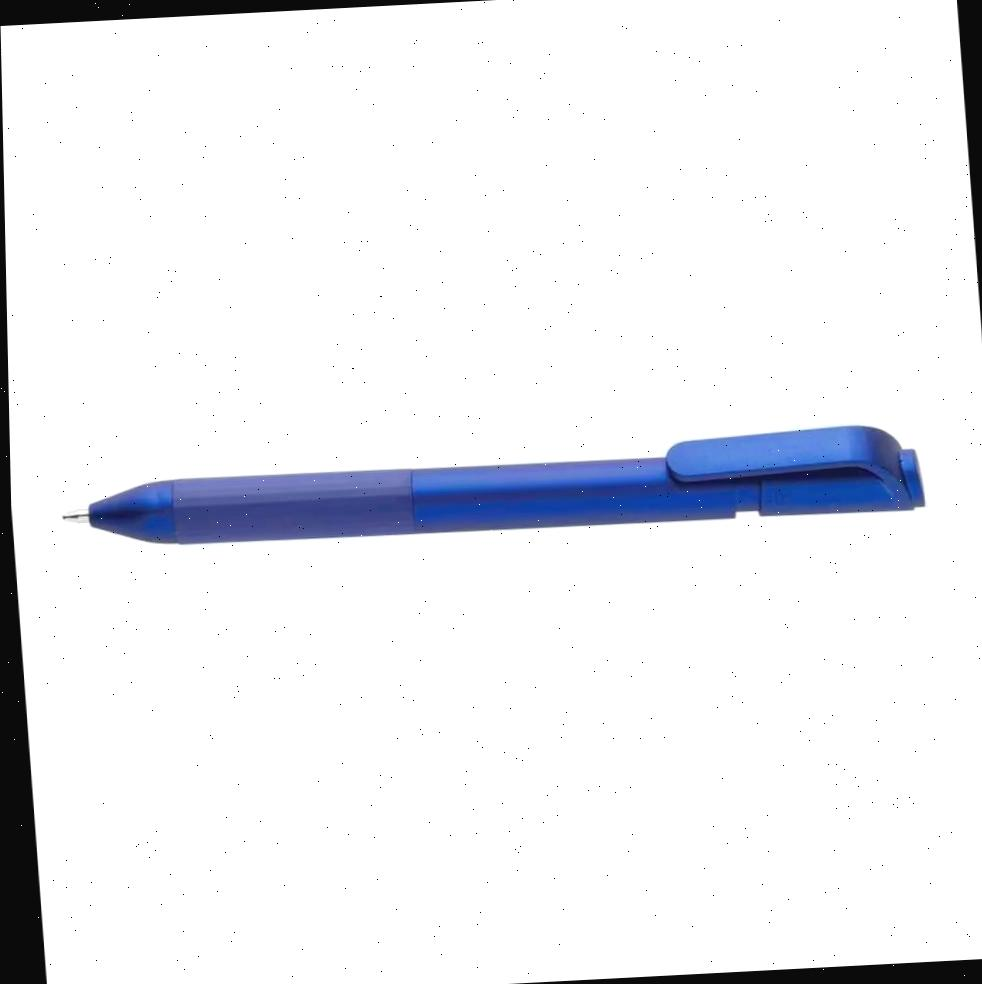pen-pencil: (82, 425, 923, 544)
